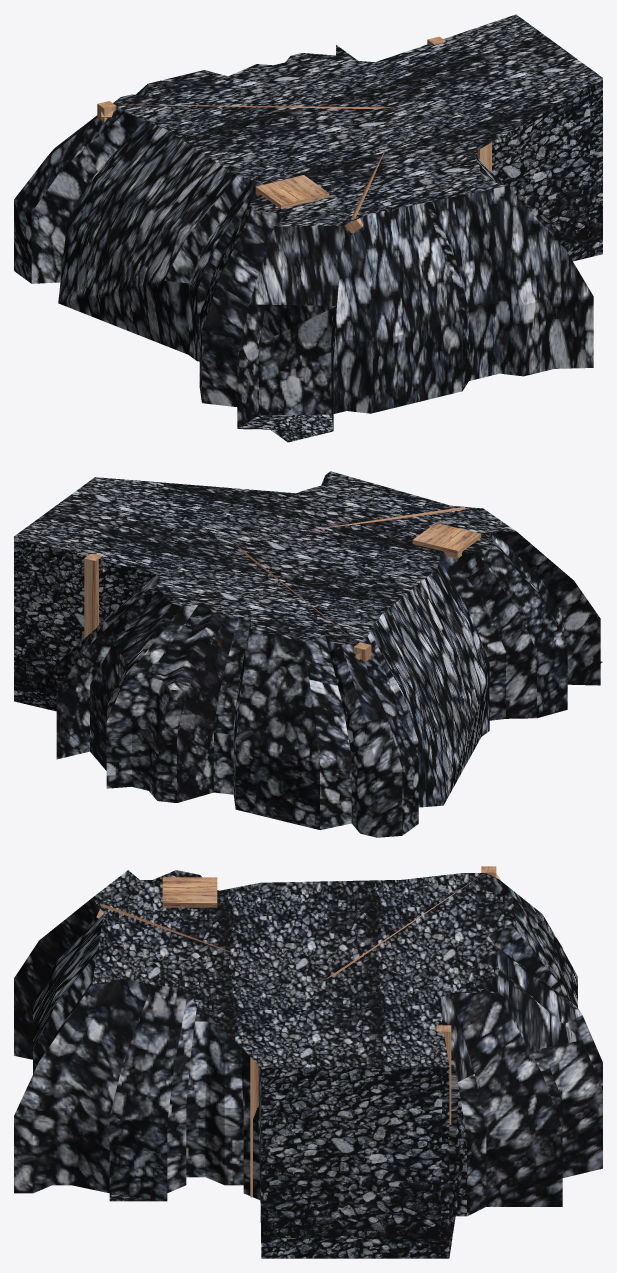
The model's file is porao.fbx.
The picture shows the model from 3 angles, top to bottom: view 1: azimuth 30°, elevation 25°; view 2: azimuth 150°, elevation 25°; view 3: azimuth 270°, elevation 25°; orthographic projection. The views are drawn at different scales.
Parts seen in each view (by area): view 1: porao.001, madeira; view 2: porao.001, madeira; view 3: porao.001, madeira.
Boxes of the visible parts, x1,y1,x2,y2 form: porao.001: [14, 14, 602, 442]; madeira: [97, 36, 491, 232]; porao.001: [14, 471, 602, 837]; madeira: [84, 506, 481, 662]; porao.001: [14, 870, 602, 1258]; madeira: [96, 866, 500, 1197].
Bounding box in the file's own units: 2857 × 1050 × 2930.
2 materials, 2 textured.
